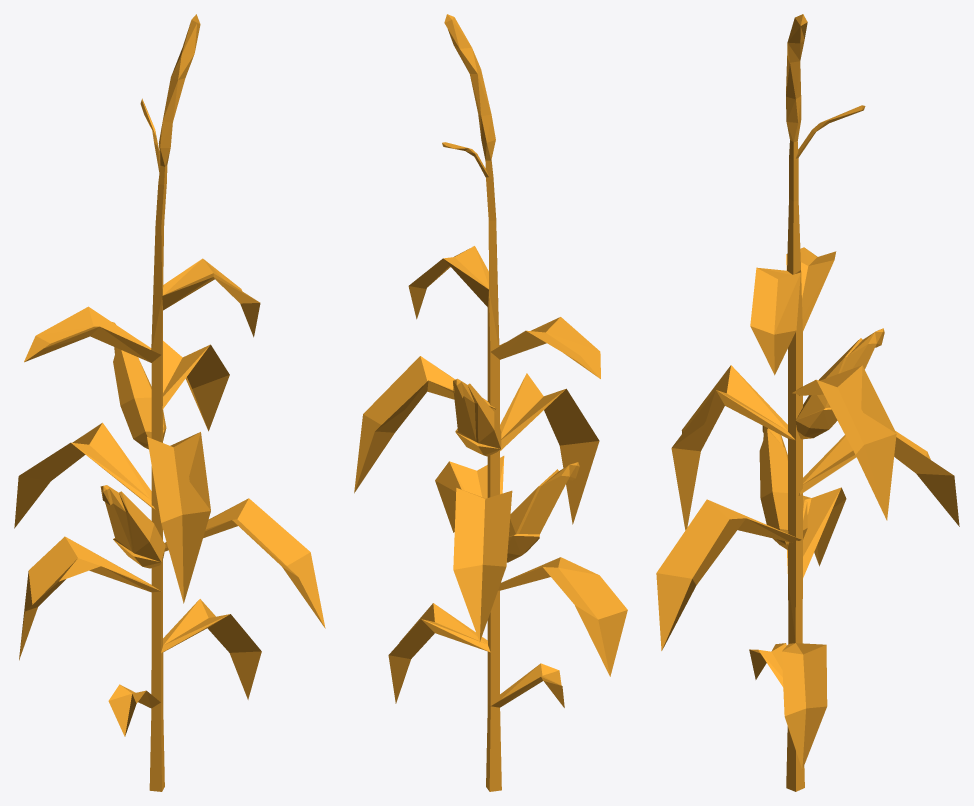
Rendered from SM_Corn_Ripe_Fieldcorn_A.fbx.
3 views of the same model, side by side, from view 1: azimuth 30°, elevation 25°; view 2: azimuth 150°, elevation 25°; view 3: azimuth 270°, elevation 25° (orthographic). The views are drawn at different scales.
Parts seen in each view (by area): view 1: corn-ripe-fieldcorn-a; view 2: corn-ripe-fieldcorn-a; view 3: corn-ripe-fieldcorn-a.
Part boxes in pixels (<box>): corn-ripe-fieldcorn-a: <box>14,14,325,791</box>; corn-ripe-fieldcorn-a: <box>354,14,627,791</box>; corn-ripe-fieldcorn-a: <box>656,14,959,791</box>.
Size of the model in its own units: 0.7594 by 2.31 by 0.7991.
